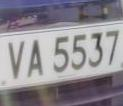3: (87, 27, 105, 71)
5: (50, 33, 71, 75), (70, 30, 89, 72)
7: (103, 26, 120, 68)
A: (27, 36, 47, 84)
V: (5, 39, 27, 83)
